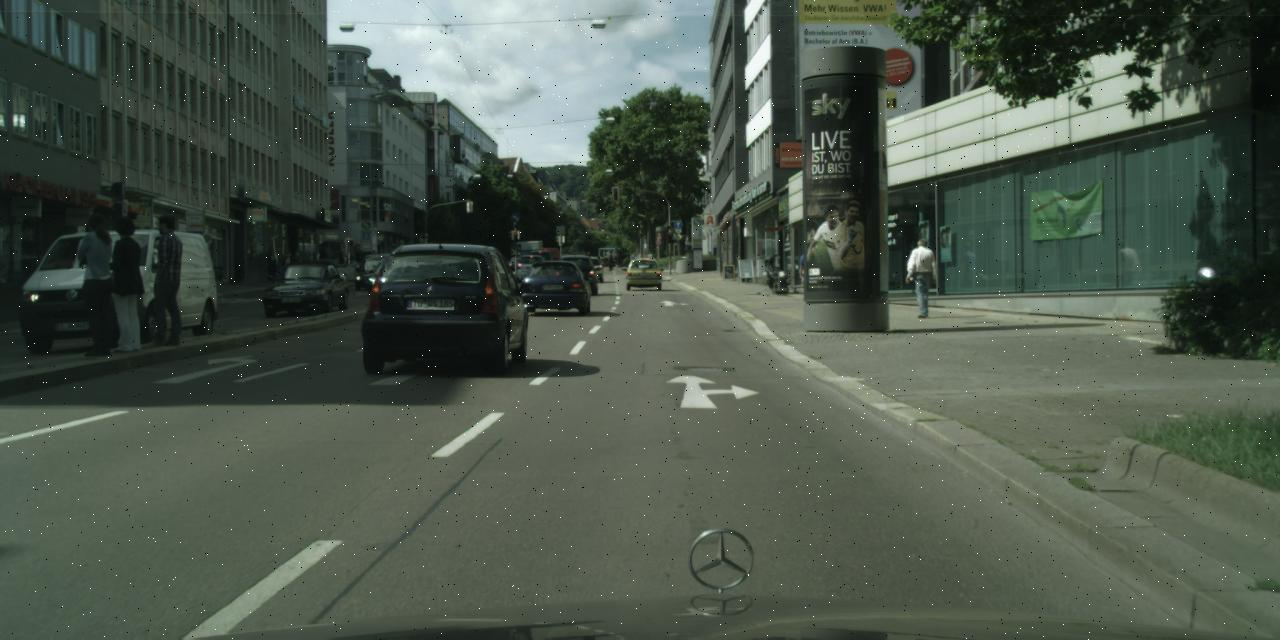ped: (71, 212, 128, 352), (98, 216, 154, 351), (137, 214, 190, 346), (906, 238, 939, 318), (802, 241, 829, 307), (605, 250, 626, 272), (267, 253, 279, 283), (282, 252, 307, 266), (629, 252, 636, 272), (646, 250, 652, 268)
